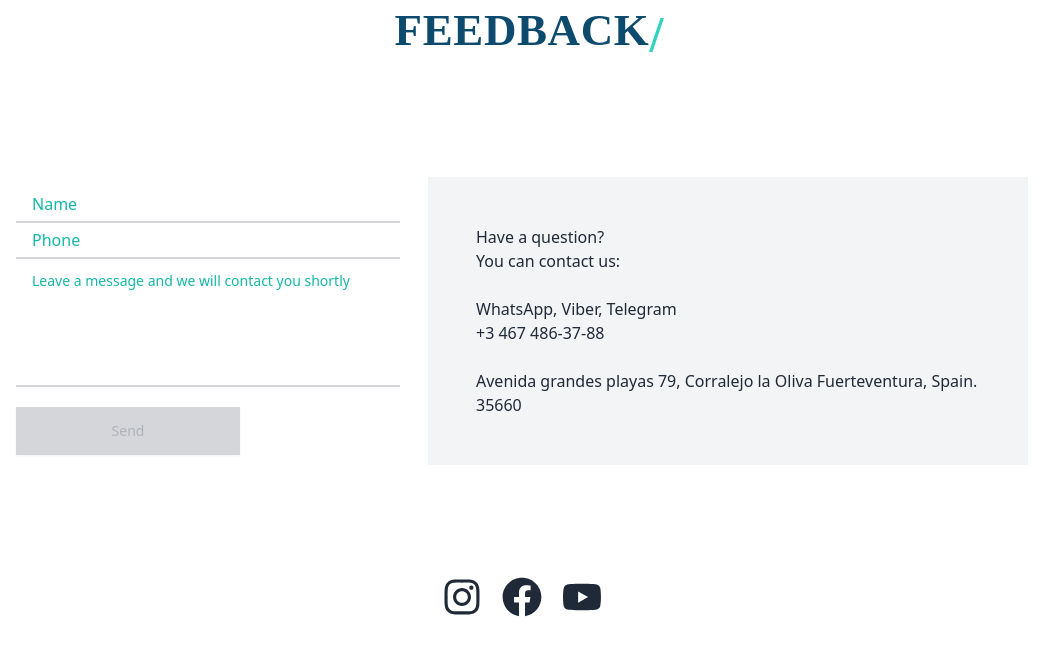
Feedback component › should get error messages from field Name
Type "test" into the field with placeholder "Name" at (208, 204), box [16, 186, 400, 222]
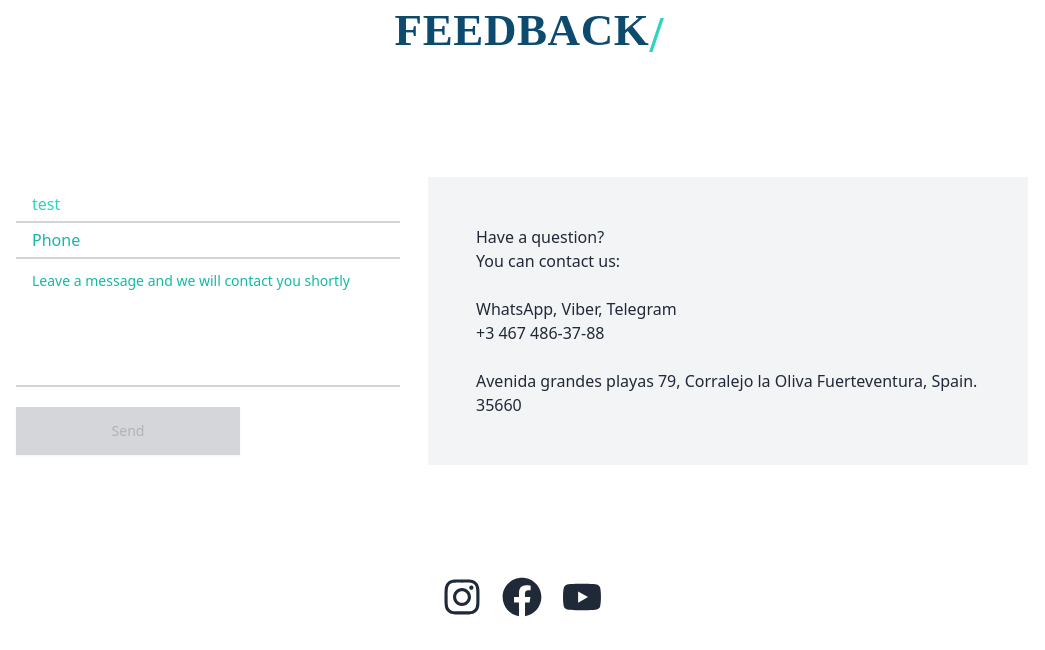
Clear the field with placeholder "Name" at (208, 204), box [16, 186, 400, 222]
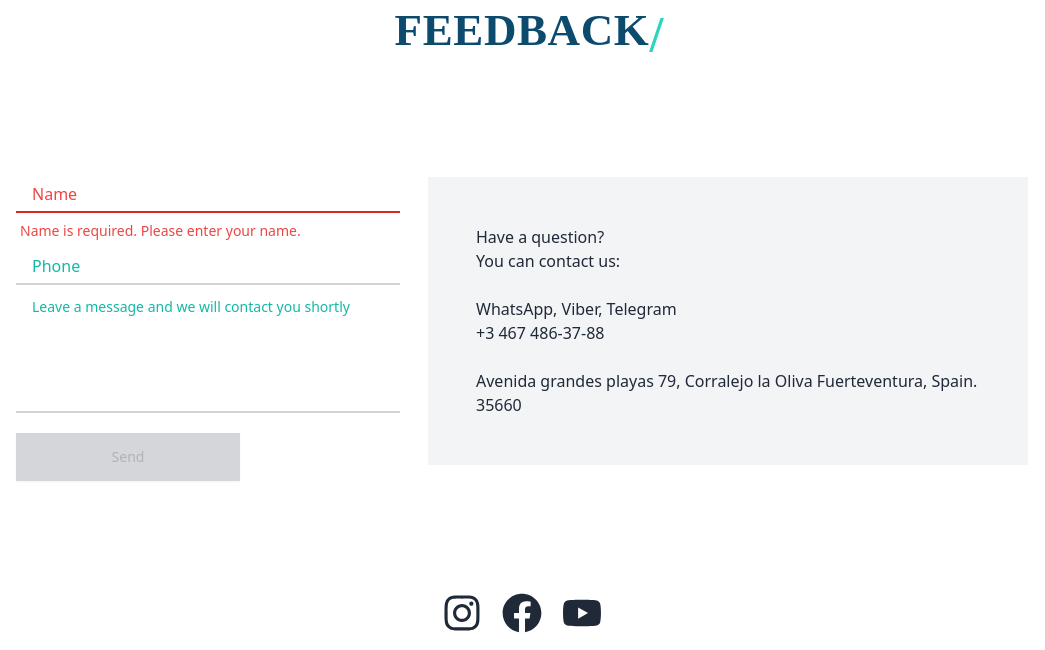
Expected: the text "Name is required. Please enter your name." is shown, [20, 220, 301, 240]
Type "4" into the field with placeholder "Name" at (208, 194), box [16, 176, 400, 212]
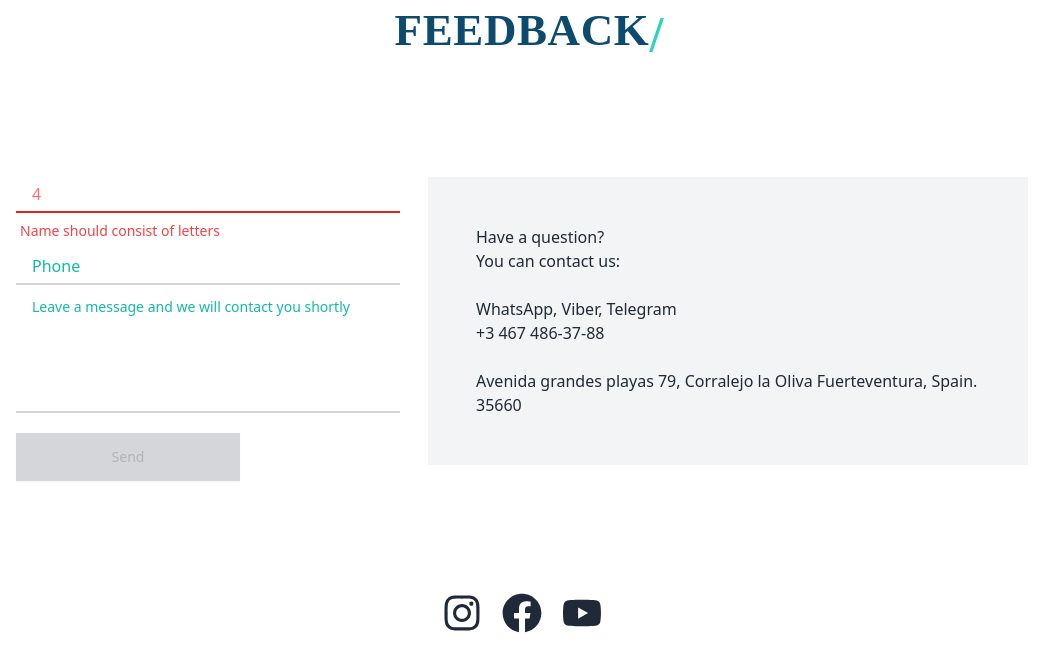
Expected: the text "Name should consist of letters" is shown, [20, 220, 220, 240]
Replace the text in the field with placeholder "Name" with "qwertyuiopasdfghjklzxqwertyy" at (208, 194), box [16, 176, 400, 212]
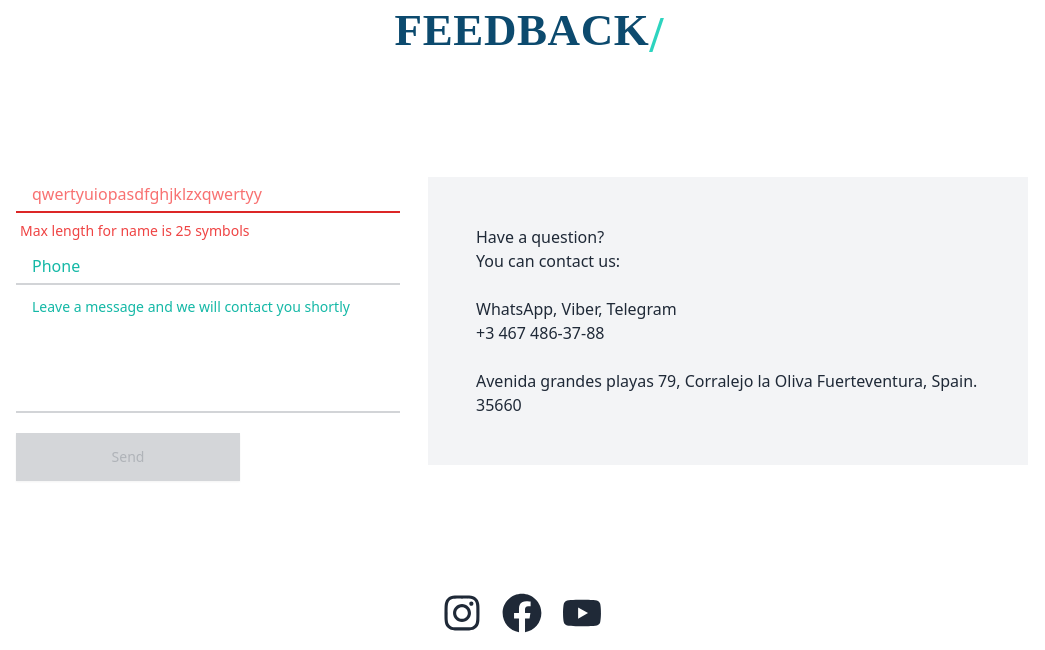
Expected: the text "Max length for name is 25 symbols" is shown, [20, 220, 250, 240]
